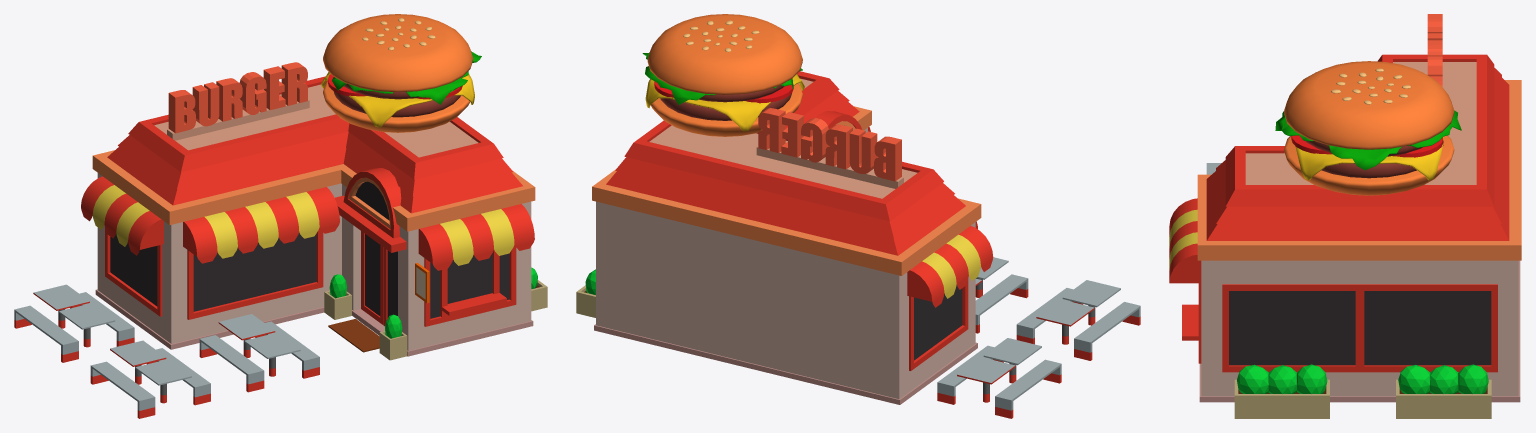
The model's file is low_poly_burger_restaurant.glb.
3 renders of one model, left to right at view 1: azimuth 30°, elevation 25°; view 2: azimuth 150°, elevation 25°; view 3: azimuth 270°, elevation 25°, orthographic. The views are drawn at different scales.
Parts seen in each view (by area): view 1: BurgerBuilding, BurgerBurger, BurgerTables, BurgerText, BurgerPlants; view 2: BurgerBuilding, BurgerBurger, BurgerTables, BurgerText, BurgerPlants; view 3: BurgerBuilding, BurgerBurger, BurgerPlants, BurgerText.
Boxes of the visible parts, bbox=[...] form: BurgerBuilding: bbox=[81, 76, 535, 356]; BurgerBurger: bbox=[321, 14, 481, 132]; BurgerTables: bbox=[14, 284, 319, 418]; BurgerText: bbox=[167, 62, 309, 140]; BurgerPlants: bbox=[324, 267, 547, 360]; BurgerBuilding: bbox=[592, 71, 993, 404]; BurgerBurger: bbox=[642, 14, 804, 136]; BurgerTables: bbox=[937, 257, 1140, 418]; BurgerText: bbox=[756, 108, 903, 188]; BurgerPlants: bbox=[576, 269, 595, 317]; BurgerBuilding: bbox=[1169, 54, 1521, 402]; BurgerBurger: bbox=[1275, 61, 1461, 195]; BurgerPlants: bbox=[1234, 364, 1491, 418]; BurgerText: bbox=[1427, 14, 1442, 86].
Size of what is drawn, in the model's own units: 6.57 by 3.75 by 4.21.
1 material, 1 textured.
